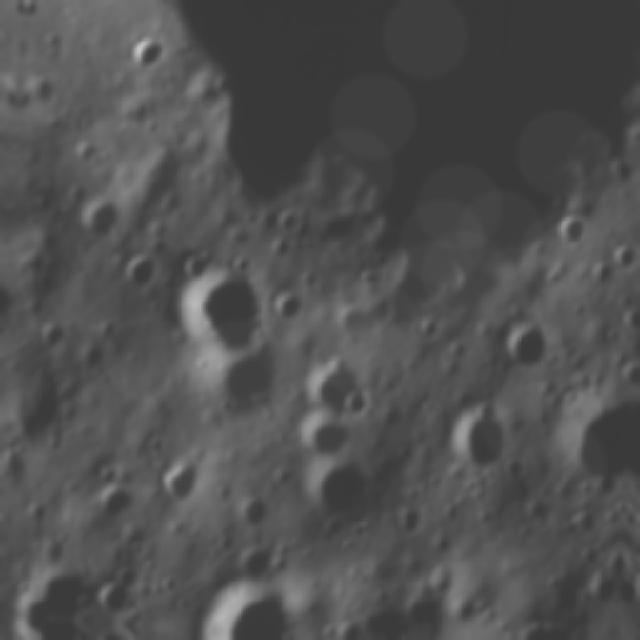crater: (160, 262, 268, 371), (555, 388, 633, 499), (192, 579, 303, 638), (206, 344, 286, 425), (434, 402, 512, 476), (310, 454, 372, 521), (12, 570, 94, 618), (501, 314, 547, 383), (299, 362, 363, 408), (293, 416, 362, 456), (108, 250, 157, 301), (73, 199, 125, 243), (164, 457, 202, 508), (401, 592, 445, 636), (511, 617, 594, 640), (128, 30, 166, 76), (103, 563, 137, 612), (97, 490, 137, 530), (18, 74, 58, 114), (315, 614, 376, 640), (573, 532, 612, 570), (235, 544, 273, 582), (580, 569, 617, 606), (238, 492, 272, 530), (271, 288, 307, 323), (78, 347, 118, 378), (393, 503, 427, 539), (493, 456, 532, 486), (584, 259, 618, 293), (36, 318, 69, 352), (555, 217, 588, 249), (72, 137, 103, 171), (206, 532, 239, 560), (342, 309, 376, 336), (0, 450, 29, 481), (604, 159, 636, 187), (59, 182, 90, 210), (615, 238, 640, 270), (346, 392, 376, 418), (275, 207, 303, 233), (270, 238, 296, 262), (43, 29, 68, 52), (274, 554, 295, 578), (318, 278, 342, 299), (543, 270, 566, 290), (27, 502, 47, 524), (97, 464, 120, 482), (546, 349, 560, 376), (142, 118, 158, 137), (629, 124, 640, 148)
